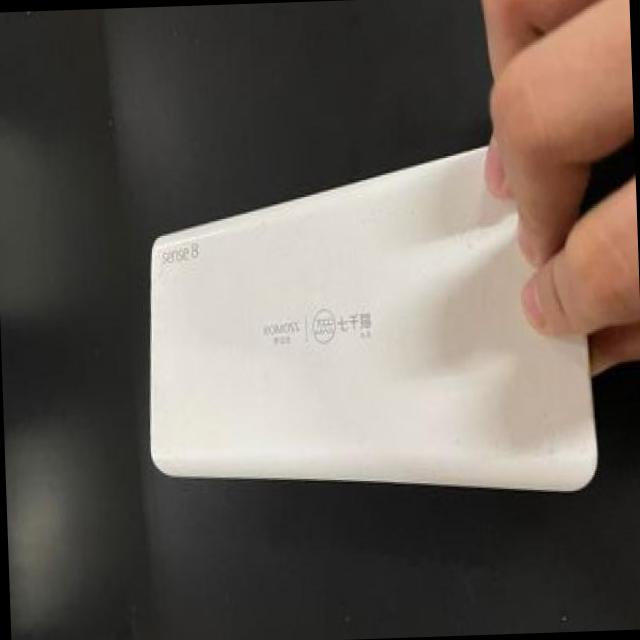power_bank: (131, 130, 620, 512)
